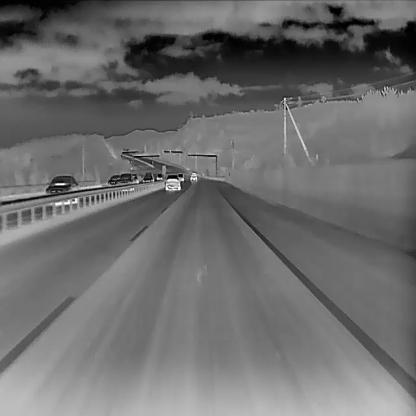car: (44, 173, 78, 205), (116, 171, 135, 191), (164, 173, 180, 191), (106, 172, 122, 188), (141, 171, 154, 185), (188, 171, 197, 181), (177, 172, 183, 182), (155, 172, 162, 180)
